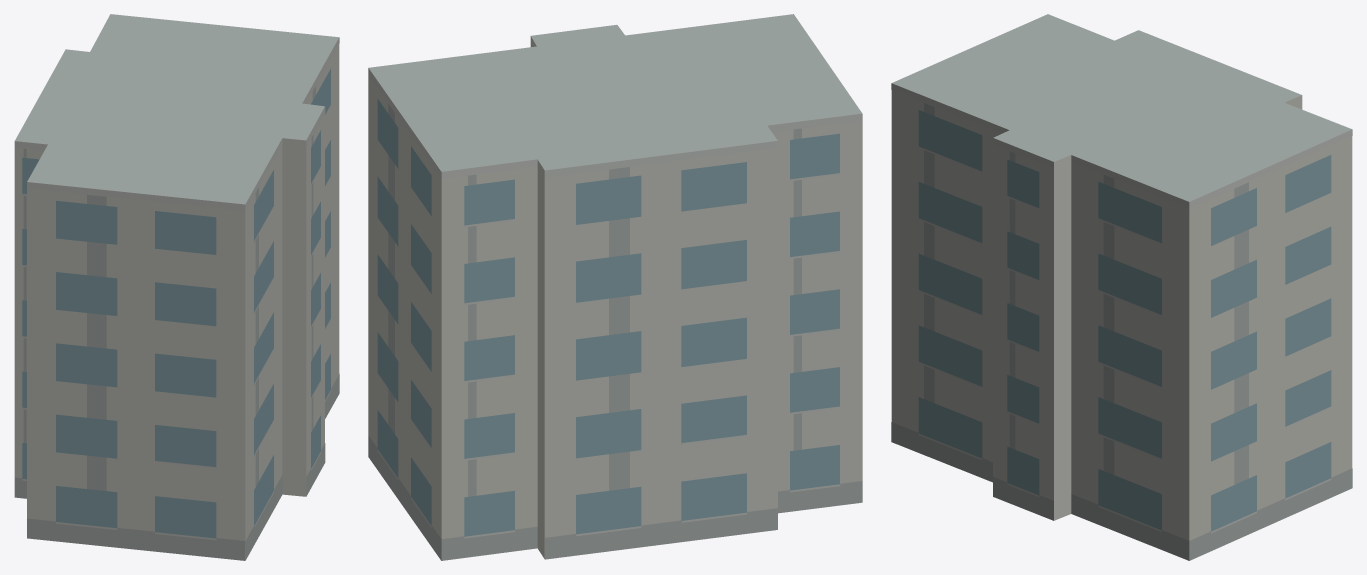
File: survey-upis-32894526.glb
3 views of the same model, side by side, from view 1: azimuth 30°, elevation 25°; view 2: azimuth 150°, elevation 25°; view 3: azimuth 270°, elevation 25° (orthographic). The views are drawn at different scales.
Visible parts, largest first — view 1: survey-upis-32894526.tmp; view 2: survey-upis-32894526.tmp; view 3: survey-upis-32894526.tmp.
Part boxes in pixels (bbox=[...]): survey-upis-32894526.tmp: bbox=[14, 14, 339, 560]; survey-upis-32894526.tmp: bbox=[368, 14, 862, 560]; survey-upis-32894526.tmp: bbox=[891, 14, 1352, 560].
Size of the model in its own units: 14.72 by 13.1 by 15.25.
